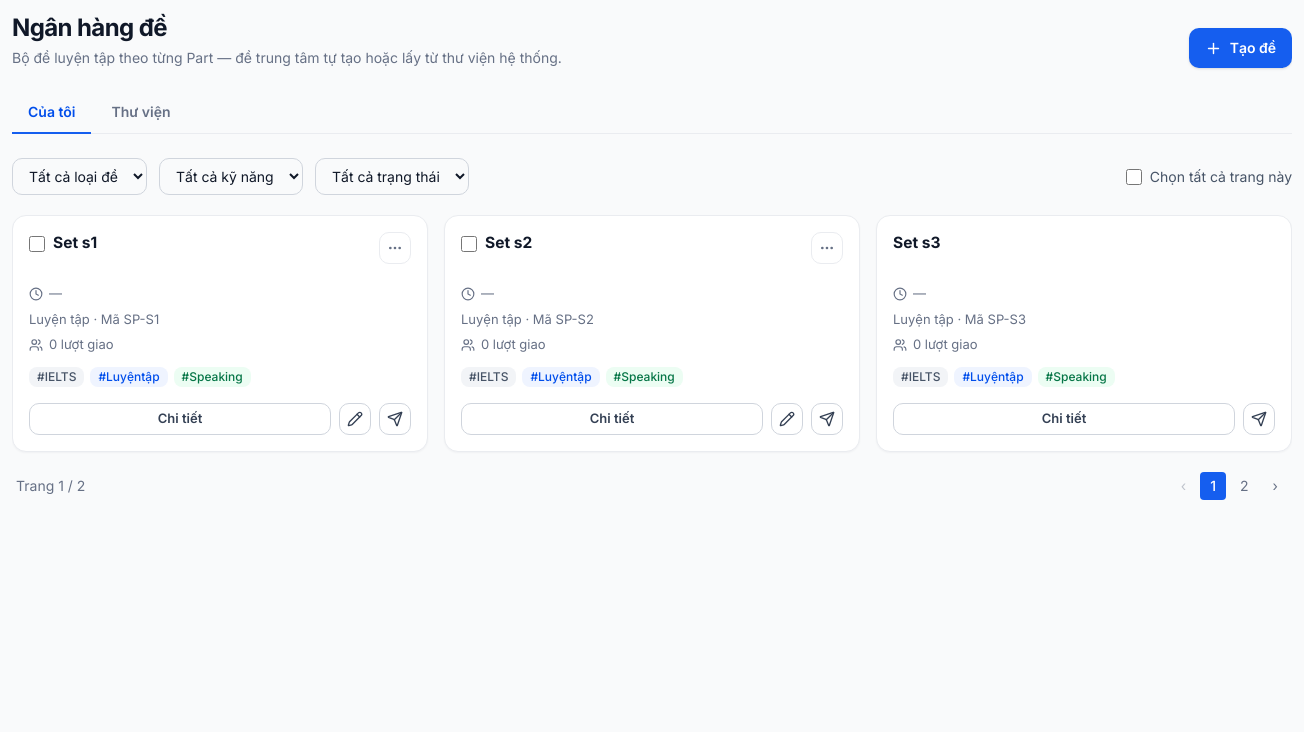
Test: BanksPage lifecycle actions › keeps the selection when moving to another page
The image size is (1304, 732).
Expected: the element with test id "bank-card-s1" is shown, [12, 215, 428, 452]
Click the checkbox with test id "bank-select-s1" at (37, 244), box [29, 236, 45, 252]
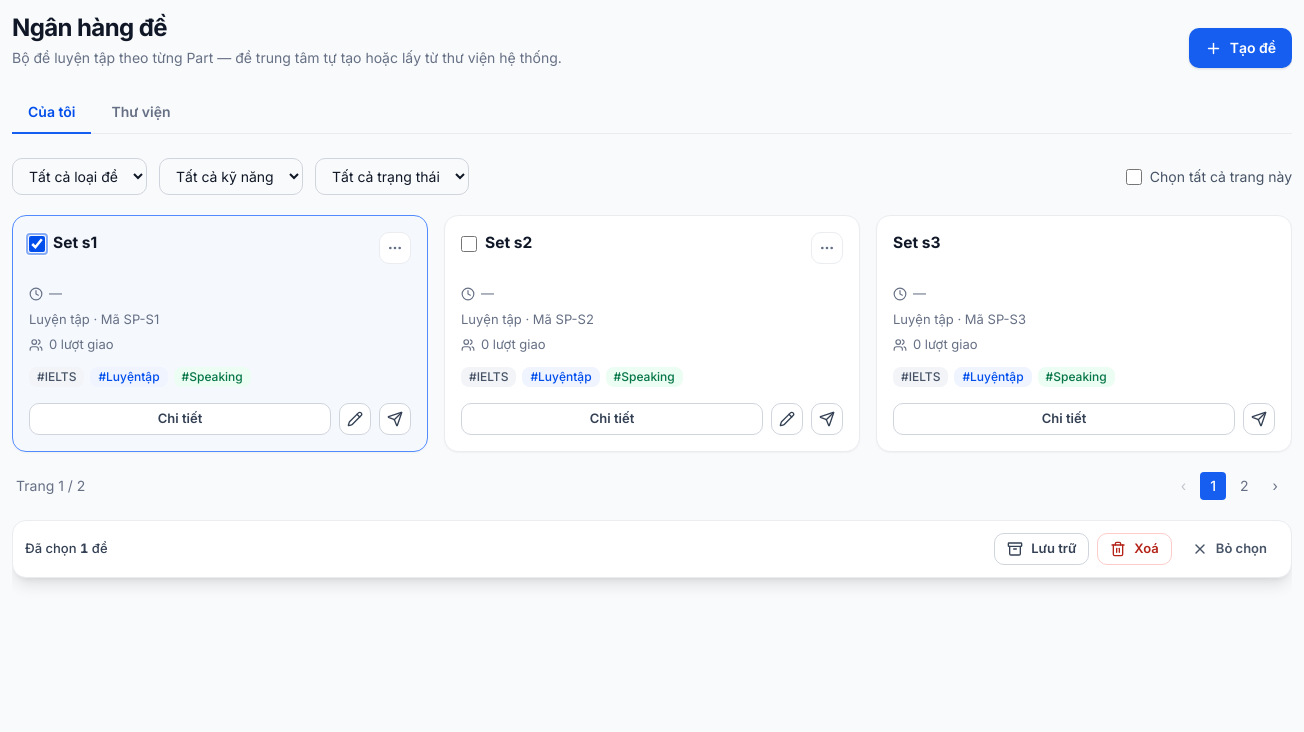
Click the button with test id "page-next" at (1275, 486), box [1263, 472, 1288, 500]
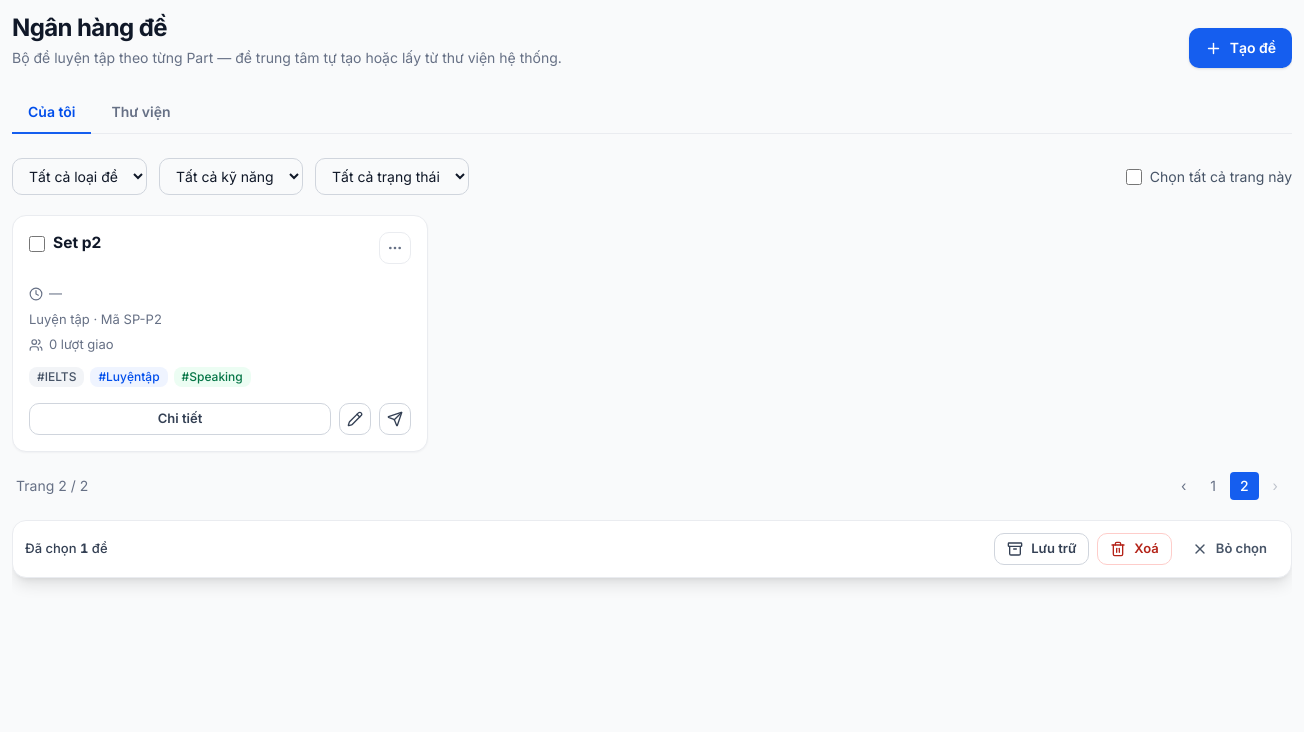
Result: the element with test id "bank-card-p2" is shown at [12, 215, 428, 452]
Click the checkbox with test id "bank-select-p2" at (37, 244), box [29, 236, 45, 252]
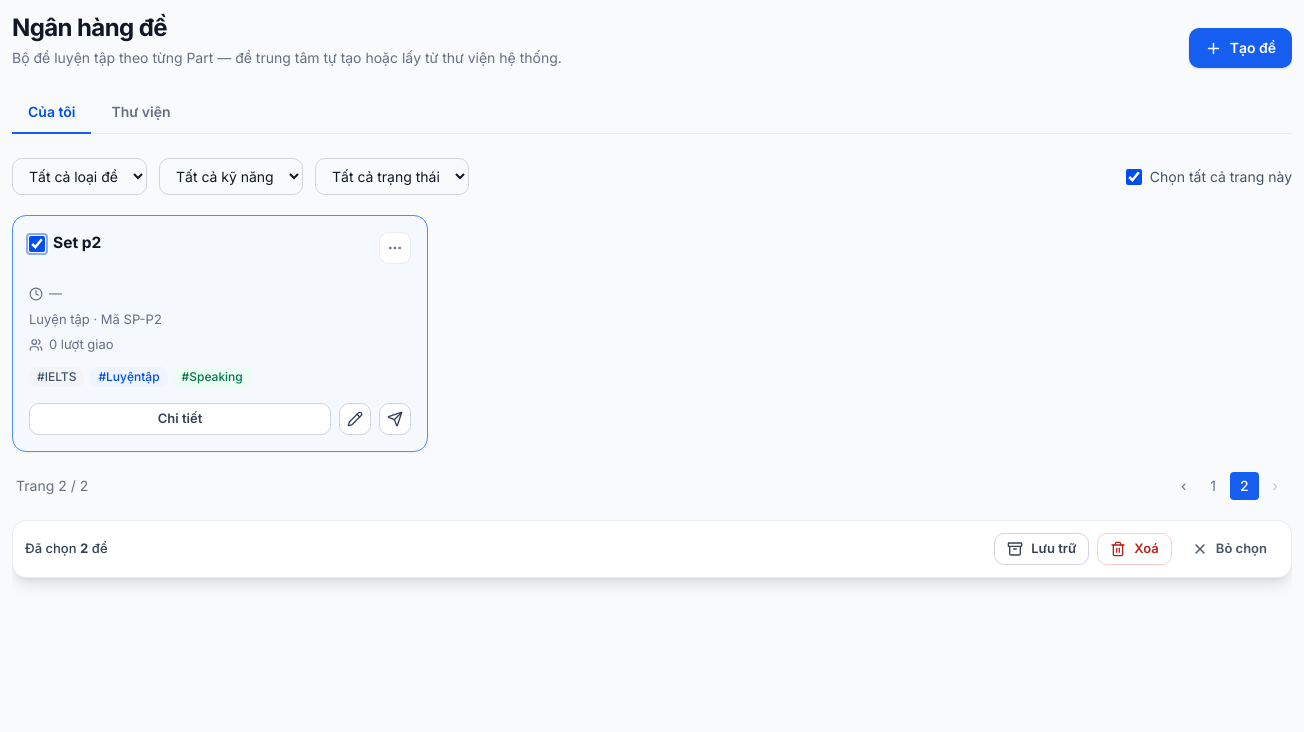
Result: the element with test id "set-bulk-bar" shows "Đã chọn 2 đề" at [12, 520, 1292, 578]
